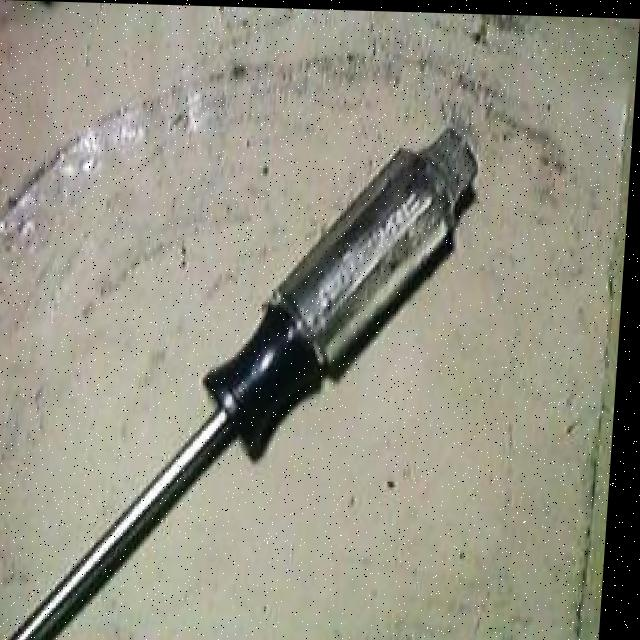Screwdriver: (19, 126, 479, 640)
